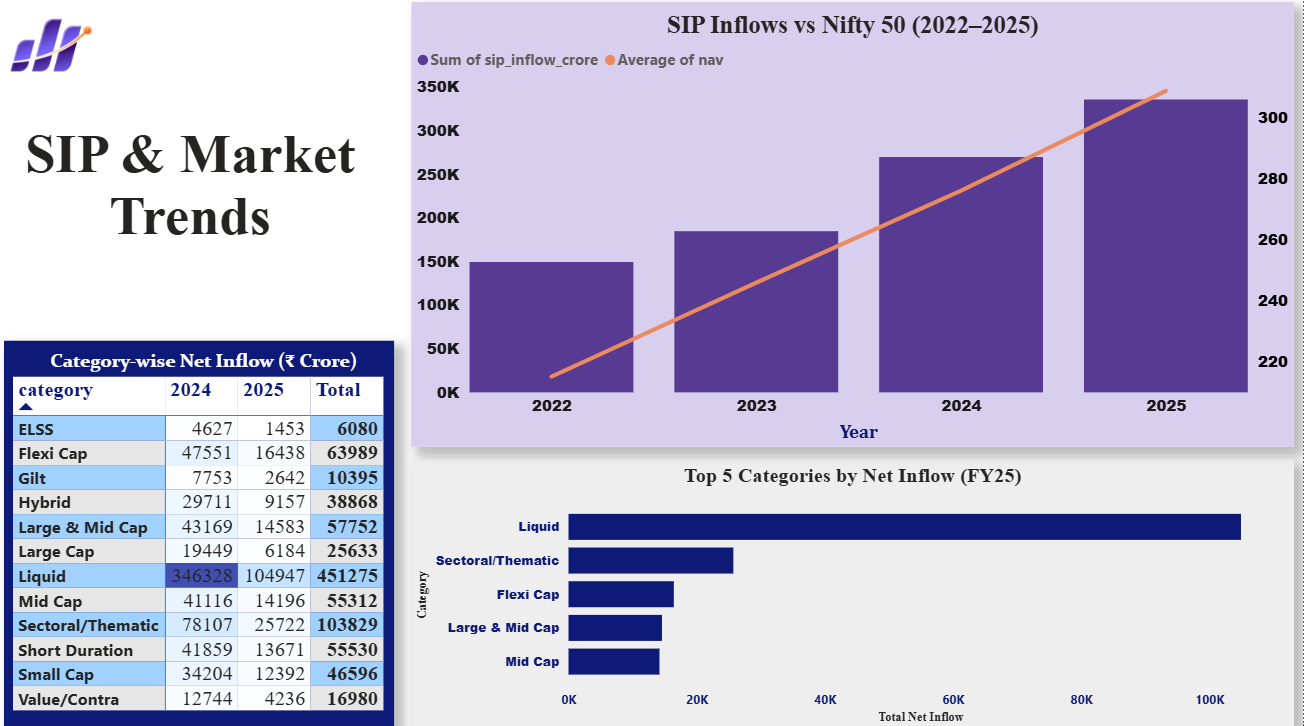

This screenshot's page, from the dashboard's own definition file:
{"tool":"powerbi","page":{"name":"SIP & Market Trend","canvas":[1280,720],"ordinal":3},"visuals":[{"type":"lineClusteredColumnComboChart","title":"SIP Inflows vs Nifty 50 (2022–2025)","fields":{"Category":["Calendar.Year"],"Y":["Sum(04_monthly_sip_inflows_clean.sip_inflow_crore)"],"Y2":["Avg(02_nav_history_clean.nav)"]},"box":[408.4,9.8,863.3,435.3],"z":0},{"type":"pivotTable","title":"Category-wise Net Inflow (₹ Crore)","fields":{"Columns":["Calendar.Year"],"Values":["Sum(05_category_inflows_clean.net_inflow_crore)"],"Rows":["05_category_inflows_clean.category"]},"box":[9.8,341.2,381.5,379.1],"z":1000},{"type":"clusteredBarChart","title":"Top 5 Categories by Net Inflow (FY25)","fields":{"Category":["05_category_inflows_clean.category"],"Y":["Sum(05_category_inflows_clean.net_inflow_crore)"]},"box":[408.4,457.3,863.3,262.9],"z":1001},{"type":"image","box":[0,0,111.3,105.2],"z":1002},{"type":"textbox","box":[19.6,123.5,344.8,132.1],"z":1003}]}

Visuals, with their boxes in screenshot pixels (x1, y1, x2, y2), scaled from the page's 1280x720 canvas onto the 1304x726 screenshot:
"SIP Inflows vs Nifty 50 (2022–2025)" lineClusteredColumnComboChart: (416,10,1296,449)
"Category-wise Net Inflow (₹ Crore)" pivotTable: (10,344,399,725)
"Top 5 Categories by Net Inflow (FY25)" clusteredBarChart: (416,461,1296,725)
image: (0,0,113,106)
textbox: (20,125,371,258)
